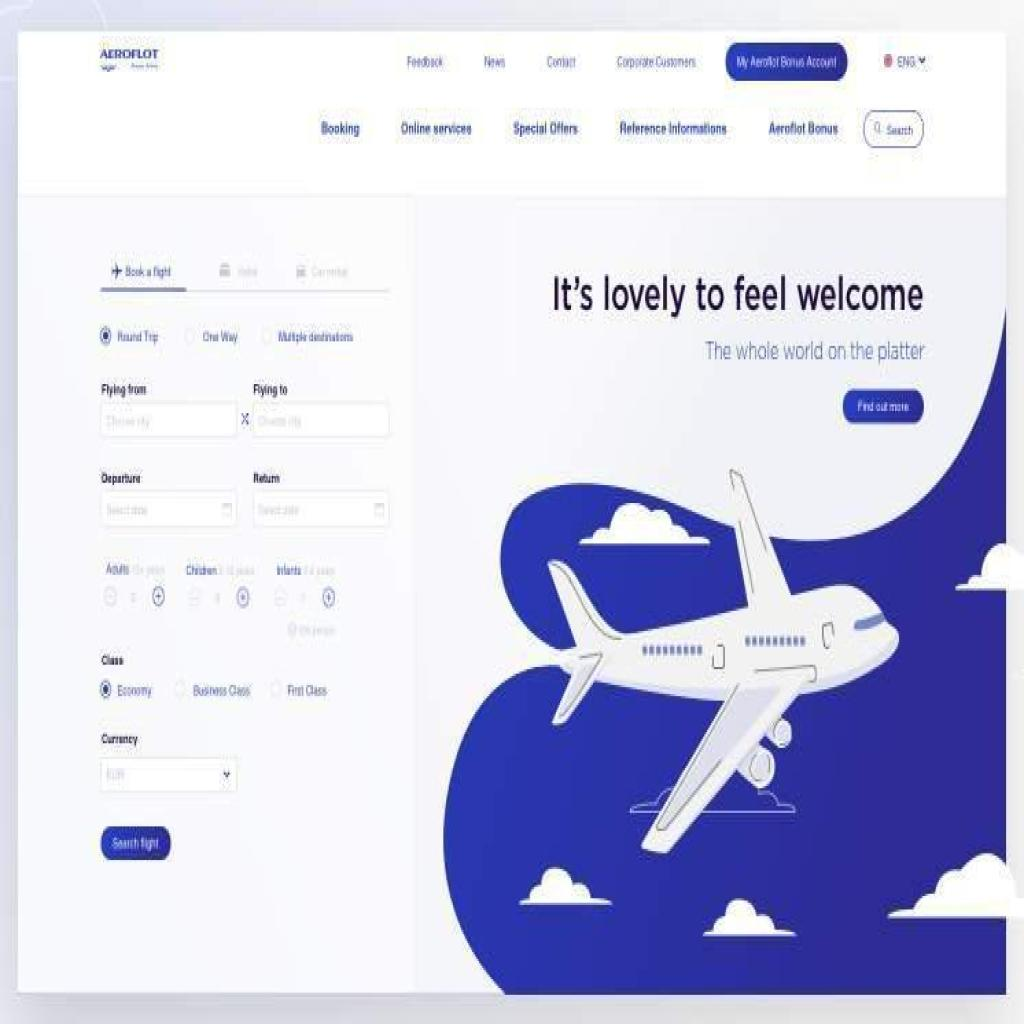button: (726, 43, 847, 83), (843, 386, 924, 424), (100, 826, 172, 862)
dropdown: (100, 756, 238, 792), (881, 47, 931, 74)
icon: (220, 501, 233, 521), (373, 503, 386, 521)
input: (252, 402, 390, 440), (252, 490, 390, 528), (100, 402, 238, 438), (100, 492, 238, 528), (863, 110, 924, 148)
label: (619, 117, 728, 137), (615, 49, 697, 72), (400, 117, 472, 139), (767, 119, 839, 139), (279, 328, 354, 346), (99, 43, 159, 63), (513, 119, 578, 137), (111, 262, 172, 280), (189, 683, 254, 698), (296, 262, 348, 280), (404, 49, 444, 72), (117, 326, 159, 346), (320, 119, 361, 139), (217, 260, 258, 280), (100, 730, 142, 748), (100, 382, 148, 397), (202, 328, 239, 346), (251, 382, 288, 400), (103, 557, 132, 579), (545, 52, 576, 72), (114, 683, 155, 698), (287, 683, 328, 698), (100, 472, 142, 485), (184, 562, 220, 577), (276, 559, 302, 577), (253, 469, 280, 485), (483, 54, 507, 72), (99, 651, 123, 667)
radio: (174, 678, 188, 703), (269, 678, 284, 701), (99, 323, 112, 348), (99, 678, 111, 701), (261, 326, 273, 348), (183, 326, 196, 346)
